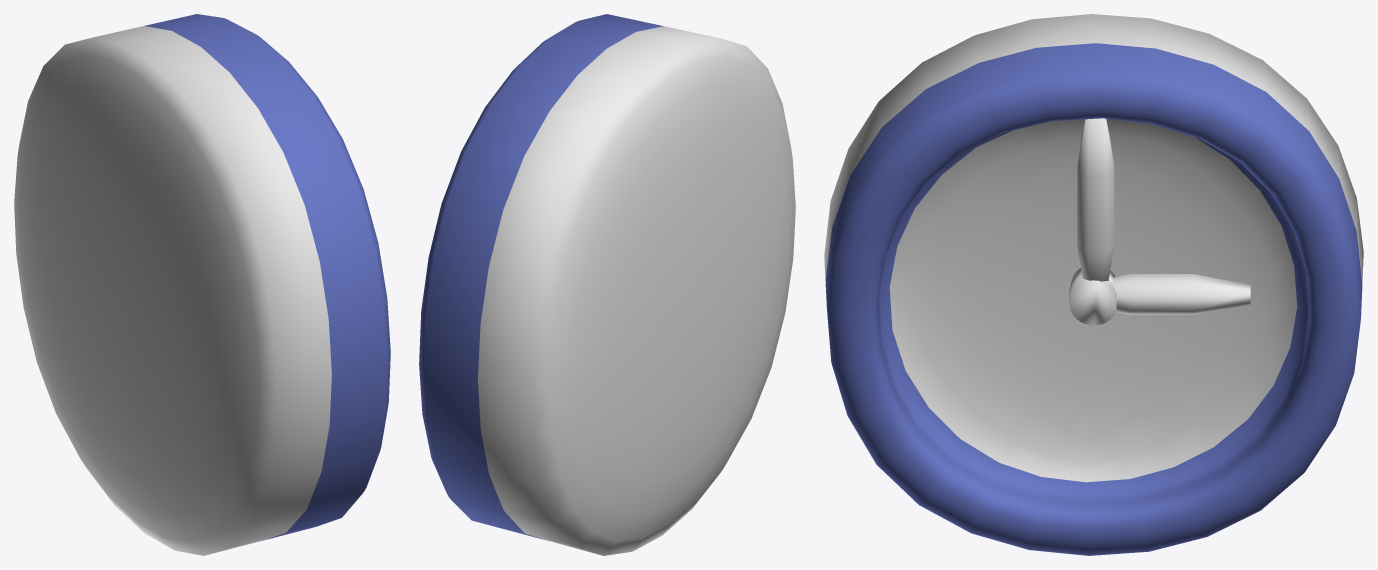
Rendered from Cock.fbx.
3 views of the same model, side by side, from view 1: azimuth 30°, elevation 25°; view 2: azimuth 150°, elevation 25°; view 3: azimuth 270°, elevation 25° (orthographic). The views are drawn at different scales.
Visible parts, largest first — view 1: Cube.002; view 2: Cube.002; view 3: Cube.002.
Part boxes in pixels (x1,y1,x2,y2): Cube.002: (14,14,390,555); Cube.002: (419,14,795,555); Cube.002: (824,14,1363,555).
Bounding box in the file's own units: 59.36 × 177 × 177.
